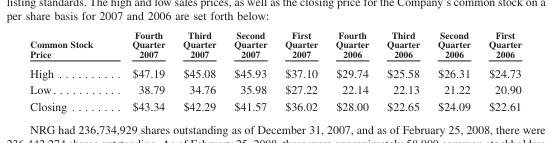table: (29, 28, 520, 112)
table column: (29, 28, 111, 112), (111, 28, 173, 112), (173, 28, 224, 112), (224, 28, 275, 112), (275, 28, 326, 112), (326, 28, 377, 112), (377, 28, 428, 112), (428, 28, 478, 112), (478, 28, 520, 112)
table column header: (29, 28, 520, 62)
table row: (29, 28, 520, 62), (29, 62, 520, 80), (29, 80, 520, 97), (29, 97, 520, 112)
